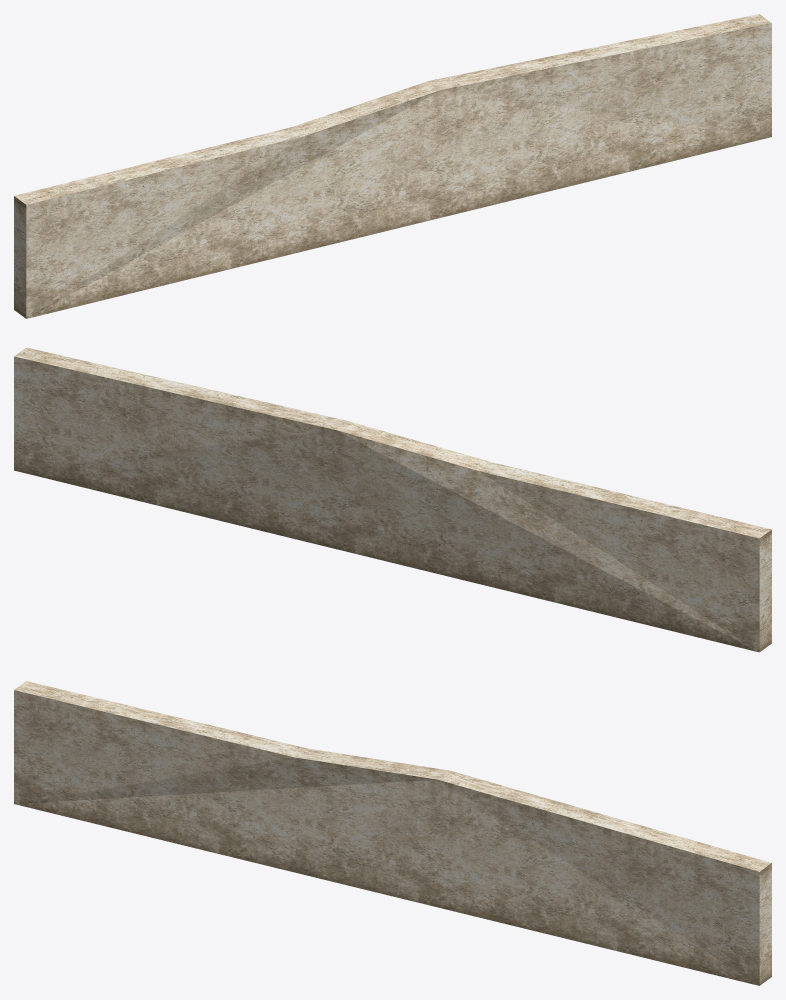
Rendered from thm_tato_jnkshp_wall_l3.fbx.
3 renders of one model, top to bottom at view 1: azimuth 30°, elevation 25°; view 2: azimuth 150°, elevation 25°; view 3: azimuth 330°, elevation 25°, orthographic.
Visible parts, largest first — view 1: mesh_node; view 2: mesh_node; view 3: mesh_node.
Boxes of the visible parts, x1,y1,x2,y2 form: mesh_node: (14,14,771,318); mesh_node: (14,347,771,652); mesh_node: (14,681,771,985).
Bounding box in the file's own units: 20 × 3.16 × 0.7837.
